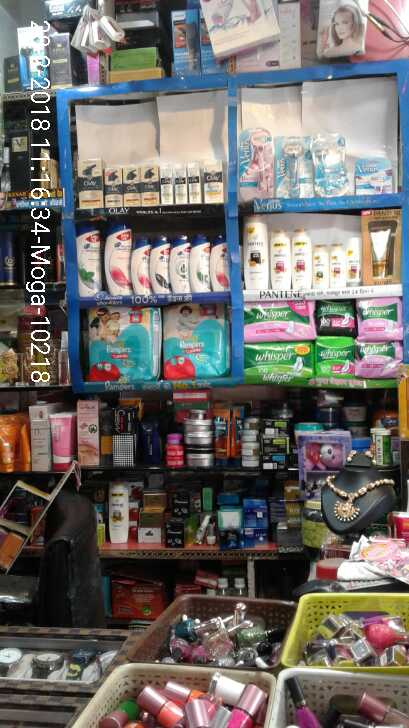venus: (311, 137, 348, 194), (275, 136, 308, 199), (241, 132, 271, 196), (355, 157, 393, 194)
